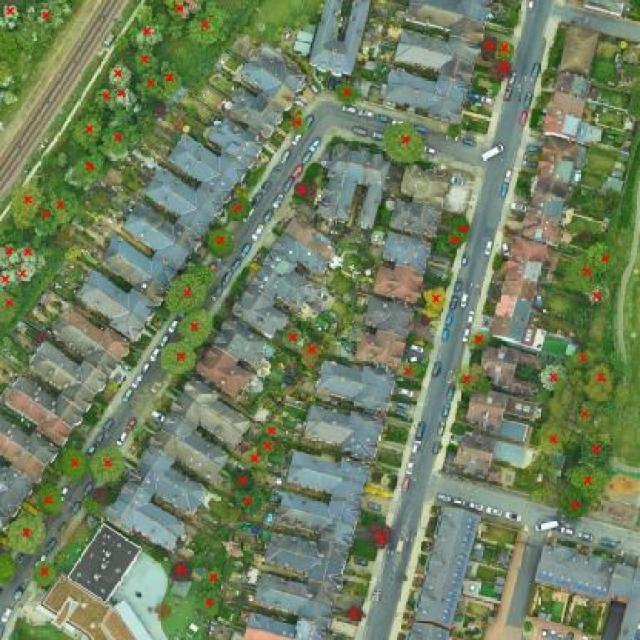tree: (183, 0, 235, 57), (380, 116, 431, 167), (161, 267, 210, 319), (562, 455, 620, 498), (0, 510, 51, 556), (87, 442, 135, 489), (65, 109, 111, 156), (573, 426, 619, 472), (99, 111, 142, 160), (169, 306, 220, 346), (66, 148, 112, 192), (585, 355, 623, 408), (11, 172, 44, 233), (580, 236, 625, 279), (53, 440, 90, 492), (445, 365, 497, 402), (553, 483, 595, 528), (155, 341, 201, 379), (49, 183, 89, 226), (532, 412, 570, 457), (441, 208, 482, 248), (30, 479, 65, 525), (126, 11, 166, 51), (418, 275, 450, 324), (560, 253, 598, 293), (363, 515, 400, 556), (330, 73, 367, 112), (201, 226, 241, 262), (222, 466, 267, 497), (536, 355, 570, 394), (161, 552, 197, 588), (272, 318, 303, 359), (569, 396, 606, 430), (28, 555, 62, 590), (161, 59, 188, 102), (33, 2, 67, 36), (389, 356, 429, 384), (12, 242, 55, 268), (164, 0, 204, 26), (228, 485, 264, 513), (284, 103, 311, 140), (0, 549, 22, 594), (113, 77, 139, 115), (285, 175, 319, 204), (463, 324, 494, 355), (223, 195, 255, 224), (581, 279, 613, 308), (487, 53, 516, 85), (0, 292, 23, 332), (136, 67, 165, 98), (436, 230, 467, 259), (255, 414, 292, 438), (106, 56, 132, 90), (37, 195, 57, 239), (567, 345, 599, 372), (239, 442, 273, 467), (199, 566, 230, 592), (474, 27, 497, 62), (136, 45, 161, 77), (342, 599, 369, 628), (302, 341, 327, 372), (195, 592, 226, 616), (0, 0, 26, 25), (254, 433, 280, 458), (0, 56, 18, 91), (494, 33, 518, 59), (90, 82, 113, 109), (0, 240, 20, 269), (20, 262, 40, 291), (0, 264, 18, 292), (0, 88, 26, 106), (151, 98, 171, 121)
